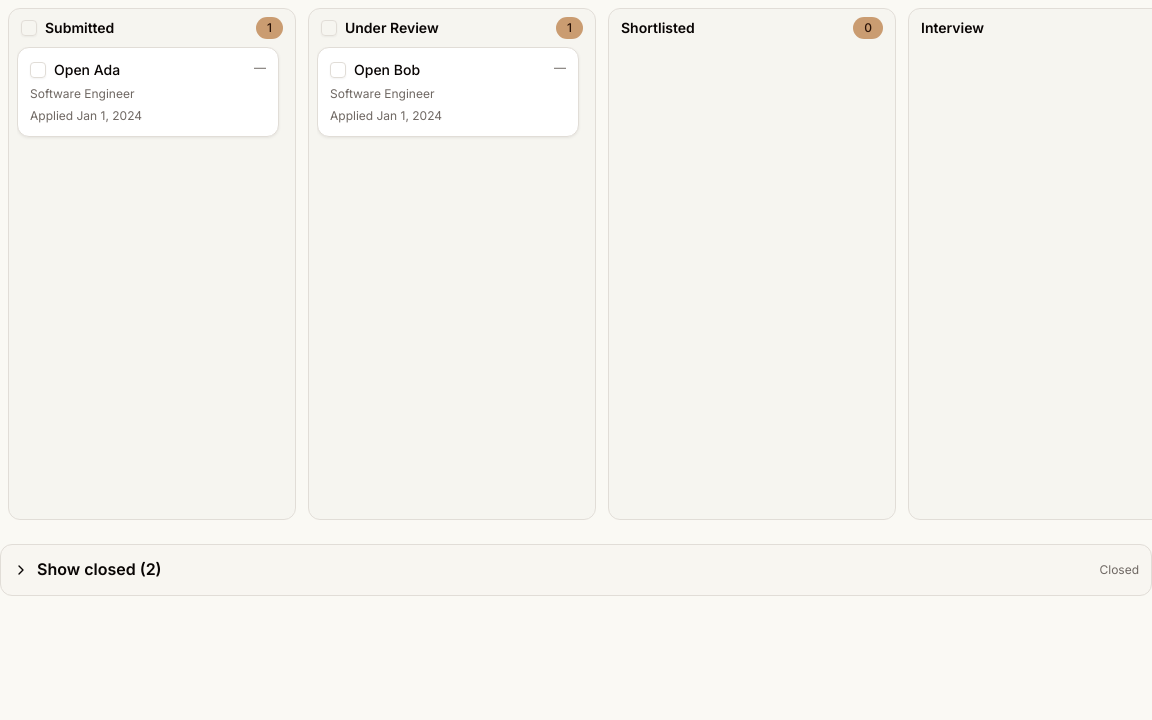
it: AtsPipelineView — bulk selection (P-2.10) › increments the counter when multiple cards are selected
The image size is (1152, 720).
Step 1. Click the checkbox with test id "candidate-select-app-1" → coordinates (38, 70), box [30,62,46,78]
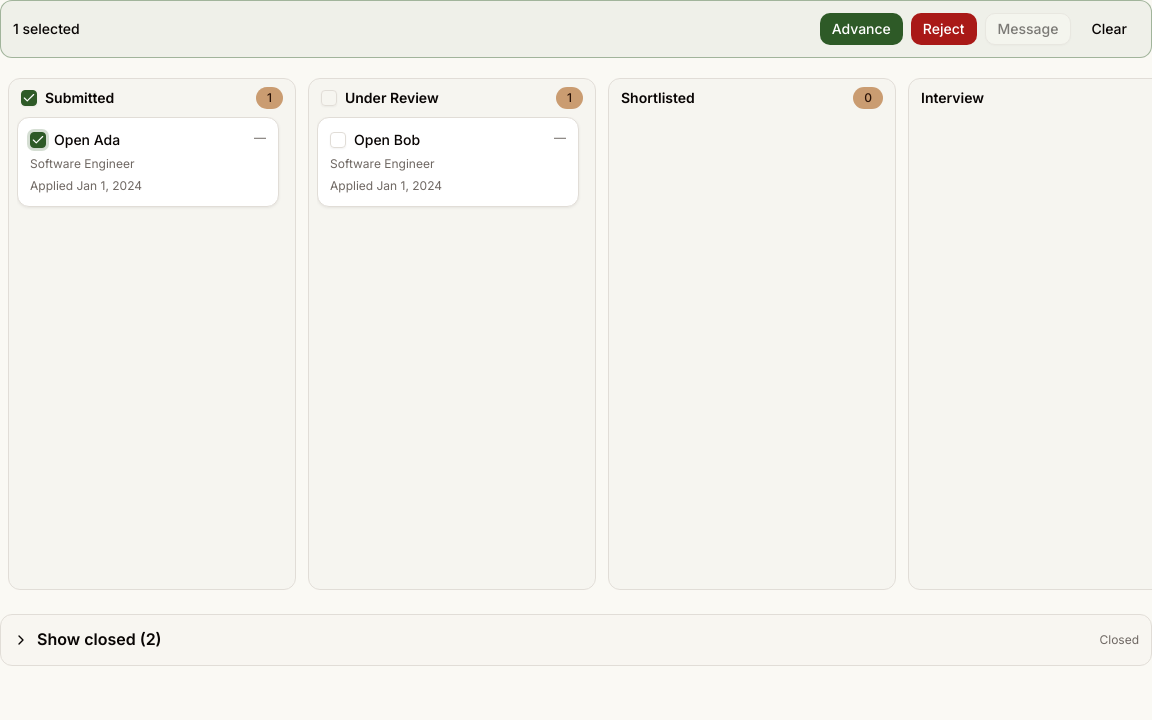
Step 2. Click the checkbox with test id "candidate-select-app-2" → coordinates (338, 140), box [330,132,346,148]
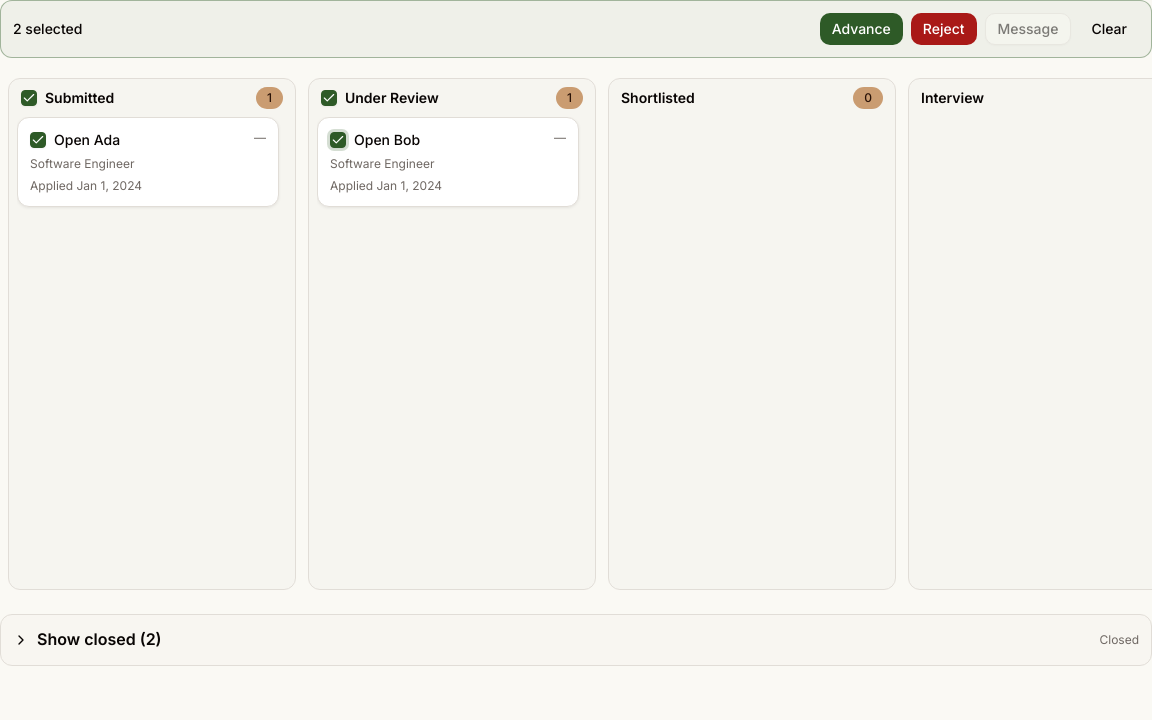
Now the text with test id "bulk-selected-count" reads "2 selected", box [13,20,82,37]
